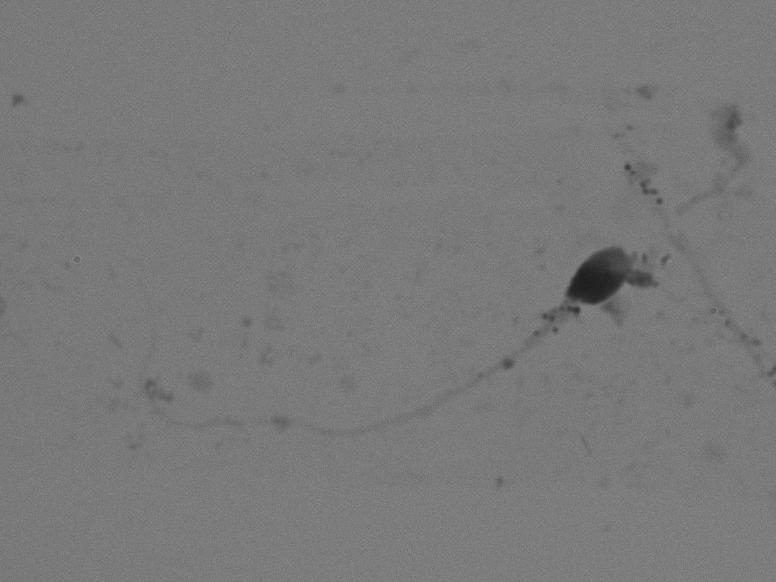Abnormal: (123, 192, 654, 471)
